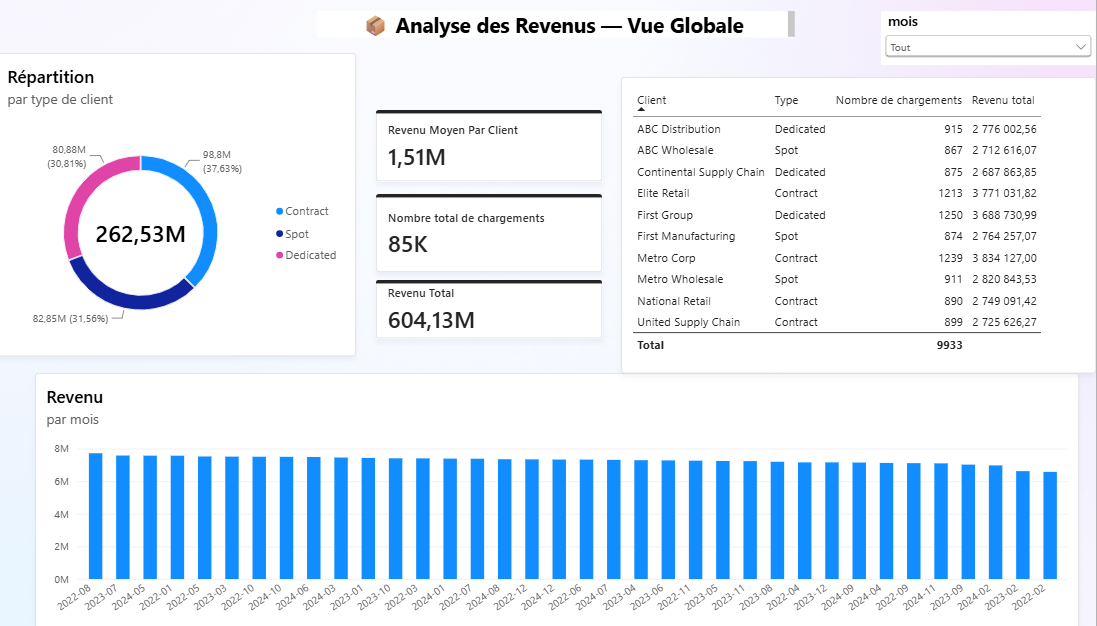

Layout of this report page (visuals, bound fields, positions):
{"tool":"powerbi","page":{"name":"Revenus","canvas":[1280,720],"ordinal":0},"visuals":[{"type":"clusteredColumnChart","fields":{"Category":["revenus_mois.mois.Variation.Hiérarchie de dates.Année"],"Y":["Sum(revenus_mois.revenu_total)"]},"box":[45,421.2,1215,298.8],"z":0},{"type":"cardVisual","fields":{"Data":["marge.Revenu Total"]},"box":[442.5,312.5,263.8,68.8],"z":1000},{"type":"donutChart","fields":{"Category":["revenus_client.customer_type"],"Y":["Sum(revenus_client.revenu_total)"]},"box":[0,48.8,418.8,352.5],"z":4000},{"type":"tableEx","fields":{"Values":["revenus_client.customer_name","revenus_client.customer_type","Sum(revenus_client.nb_chargements)","revenus_client.revenu_total"]},"box":[727.5,76.2,552.5,345],"z":5000},{"type":"textbox","box":[373.8,0,556.2,31.2],"z":5002},{"type":"slicer","fields":{"Values":["revenus_mois.mois"]},"box":[1030,0,250,62.5],"z":5003},{"type":"cardVisual","fields":{"Data":["Sum(revenus_mois.nb_chargements)"]},"box":[442.5,212.5,263.8,91.2],"z":5004},{"type":"cardVisual","fields":{"Data":["revenus_client.Revenu Moyen Par Client"]},"box":[442.5,115,263.8,83.8],"z":5005}]}

Visuals, with their boxes in screenshot pixels (x1, y1, x2, y2), scaled from the page's 1280x720 canvas onto the 1097x626 screenshot:
clusteredColumnChart - revenus_mois.mois.Variation.Hiérarchie de dates.Année x Sum(revenus_mois.revenu_total): <box>39,366,1080,625</box>
cardVisual - marge.Revenu Total: <box>379,272,605,332</box>
donutChart - revenus_client.customer_type x Sum(revenus_client.revenu_total): <box>0,42,359,349</box>
tableEx - revenus_client.customer_name x revenus_client.customer_type: <box>623,66,1096,366</box>
textbox: <box>320,0,797,27</box>
slicer - revenus_mois.mois: <box>883,0,1096,54</box>
cardVisual - Sum(revenus_mois.nb_chargements): <box>379,185,605,264</box>
cardVisual - revenus_client.Revenu Moyen Par Client: <box>379,100,605,173</box>
